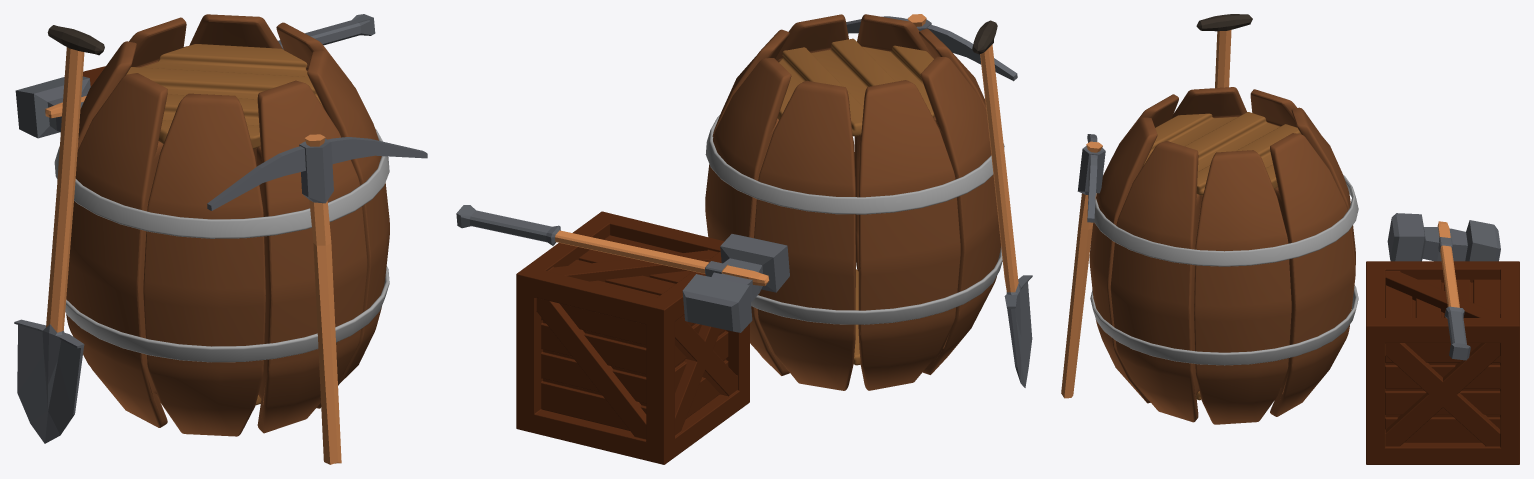
The model's file is barriles1.fbx.
3 views of the same model, side by side, from view 1: azimuth 30°, elevation 25°; view 2: azimuth 150°, elevation 25°; view 3: azimuth 270°, elevation 25° (orthographic). The views are drawn at different scales.
Visible parts, largest first — view 1: pickaxe v:83 f:83.001; view 2: pickaxe v:83 f:83.001; view 3: pickaxe v:83 f:83.001.
Boxes of the visible parts, bbox=[...] form: pickaxe v:83 f:83.001: bbox=[14, 14, 427, 464]; pickaxe v:83 f:83.001: bbox=[456, 14, 1032, 464]; pickaxe v:83 f:83.001: bbox=[1061, 14, 1519, 464].
Size of the model in its own units: 335 by 261 by 340.
